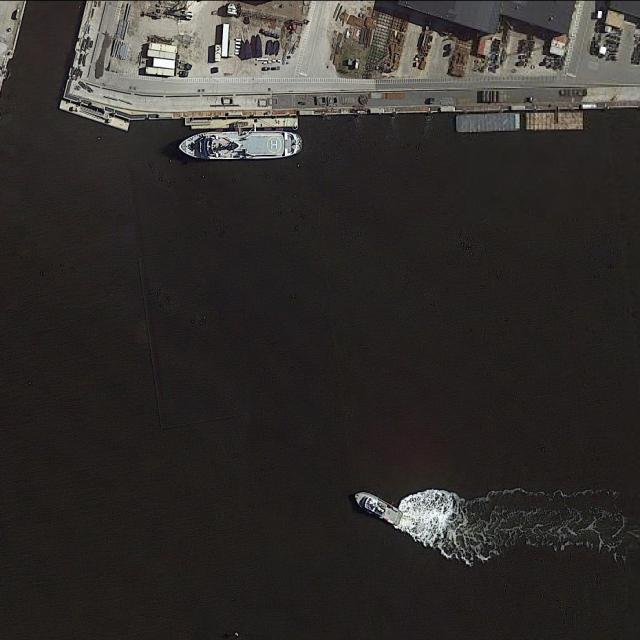Other Ship: (350, 487, 405, 528)
Yacht: (178, 131, 299, 158)
